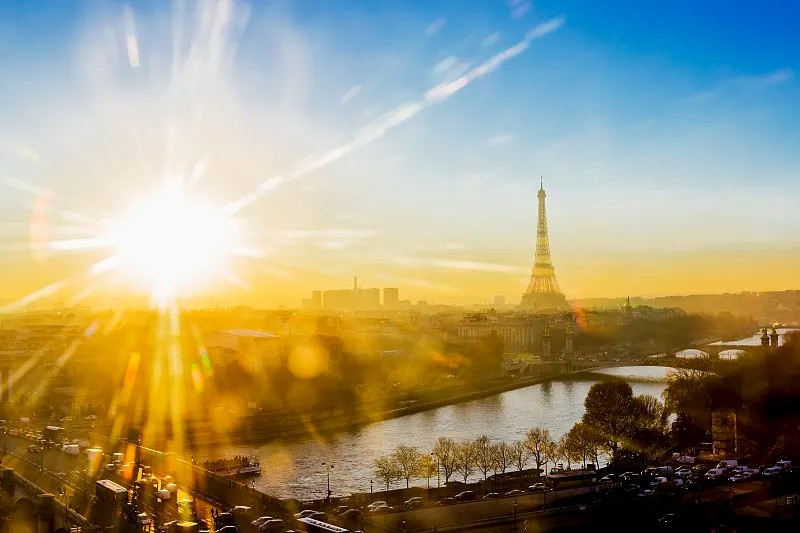Eiffel: (515, 175, 571, 313)
